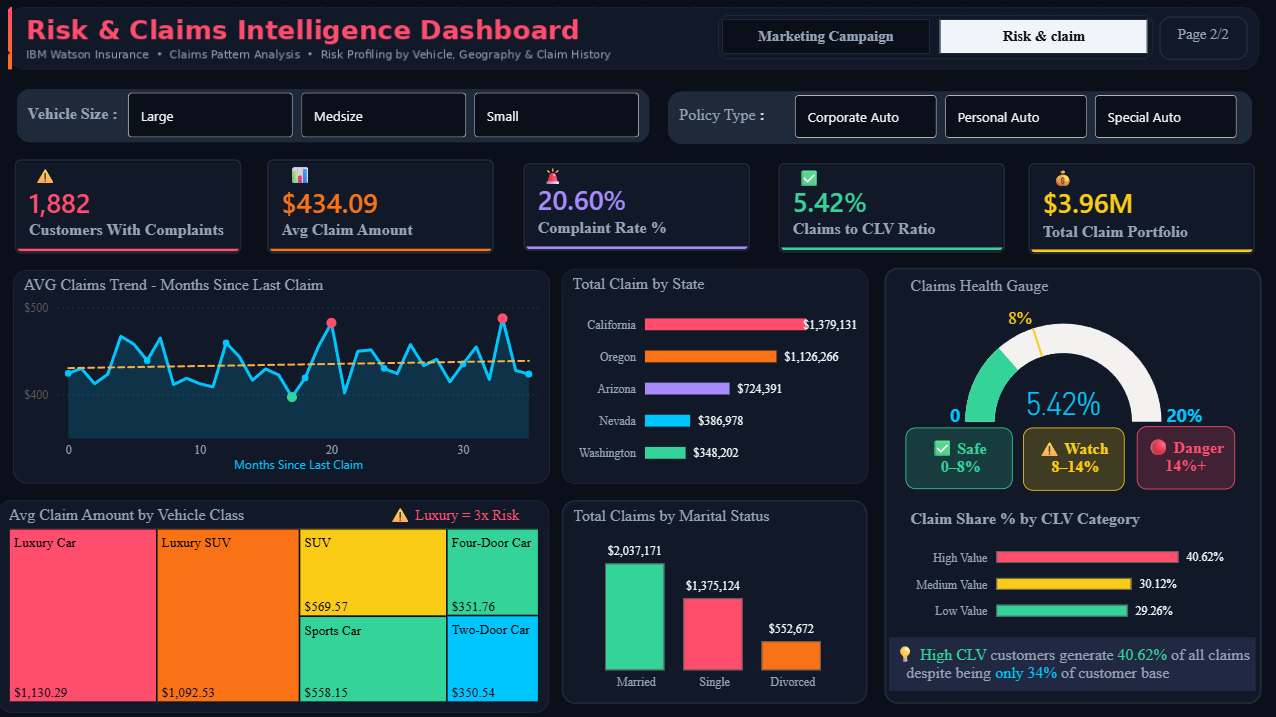

The dashboard page shown, as its layout file describes it:
{"tool":"powerbi","page":{"name":"Risk & claim","canvas":[1280,720],"ordinal":1},"visuals":[{"type":"shape","box":[18,89.1,632.9,53.8],"z":0,"group":"g6"},{"type":"shape","box":[670,91.1,584.3,52.9],"z":0,"group":"g4"},{"type":"group","id":"g1","title":"Group 2","box":[886.7,267.5,377.5,436.7],"z":0},{"type":"shape","box":[886.7,267.5,377.5,436.7],"z":0,"group":"g1"},{"type":"advancedSlicerVisual","fields":{"Values":["IBM_Marketing.Vehicle Size"]},"box":[124.7,93.4,522.9,45.7],"z":1000,"group":"g6"},{"type":"advancedSlicerVisual","fields":{"Values":["IBM_Marketing.Policy Type"]},"box":[788.6,95.4,458.3,47.1],"z":1000,"group":"g4"},{"type":"cardVisual","fields":{"Data":["Risk & Claim KPI.Avg Claim Amount"]},"box":[252.9,142.9,260,128.6],"z":1000},{"type":"cardVisual","fields":{"Data":["Risk & Claim KPI.Customers With Complaints"]},"box":[0,142.9,260,128.6],"z":2000},{"type":"textbox","box":[17.1,100.6,114.3,43.2],"z":3000,"group":"g6"},{"type":"textbox","box":[675.7,101.1,107.1,30],"z":3000,"group":"g4"},{"type":"cardVisual","fields":{"Data":["Risk & Claim KPI.Complaint Rate %"]},"box":[508.6,145.7,260,122.9],"z":3000},{"type":"cardVisual","fields":{"Data":["Risk & Claim KPI.Claims to CLV Ratio"]},"box":[763.8,146.2,260,123.8],"z":4000},{"type":"barChart","fields":{"Y":["Risk & Claim KPI.Claim Share %"],"Category":["IBM_Marketing.CLV Category"]},"box":[907.1,510,330,124.3],"z":5000},{"type":"clusteredBarChart","title":"Total Claim by State","fields":{"Category":["IBM_Marketing.State","IBM_Marketing.Gender"],"Y":["Risk & Claim KPI.Total Claim Portfolio"]},"box":[563.8,268.8,306.2,215],"z":6000},{"type":"treemap","fields":{"Group":["IBM_Marketing.Vehicle Class"],"Values":["Risk & Claim KPI.Avg Claim Amount"]},"box":[0,500,551.4,212.9],"z":7000},{"type":"gauge","title":"Claims Health Gauge","fields":{"Y":["Risk & Claim KPI.Claims to CLV Ratio"],"MinValue":["Table.Gauge min"],"MaxValue":["Table.gauge max"],"TargetValue":["Table.Gauge Target"]},"box":[907.1,275.7,341.4,155.7],"z":8000},{"type":"clusteredColumnChart","title":"Total Claims by Marital Status","fields":{"Category":["IBM_Marketing.Marital Status"],"Y":["Risk & Claim KPI.Total Claim Portfolio"]},"box":[564.3,500,305.7,204.3],"z":9000},{"type":"lineChart","title":"AVG Claims Trend - Months Since Last Claim","fields":{"Category":["IBM_Marketing.Months Since Last Claim"],"Y":["Risk & Claim KPI.Avg Claim Amount"]},"box":[14.4,270,536.7,213.3],"z":10000},{"type":"textbox","box":[386.2,497.5,165,35],"z":11000},{"type":"group","id":"g2","title":"Group 1","box":[907.1,426.7,330,64.3],"z":12000},{"type":"textbox","box":[891.2,637.5,366.2,53.8],"z":13000},{"type":"cardVisual","fields":{"Data":["Risk & Claim KPI.Total Claim Portfolio"]},"box":[1014.3,145.7,260,125.7],"z":14000},{"type":"textbox","box":[907.1,428.1,107.1,61.4],"z":14000,"group":"g2"},{"type":"group","id":"g3","title":"Group 3","box":[17.1,89.1,633.8,54.7],"z":15000},{"type":"textbox","box":[1024.2,428.1,101.4,62.9],"z":15000,"group":"g2"},{"type":"group","id":"g4","title":"Group 4","box":[670,91.1,584.3,52.9],"z":16000},{"type":"textbox","box":[1138.5,426.7,98.6,62.9],"z":16000,"group":"g2"},{"type":"textbox","box":[31.2,158.8,47.5,40],"z":17000},{"type":"textbox","box":[286.2,158.8,47.5,45],"z":18000},{"type":"group","id":"g5","title":"Group 4","box":[17.1,89.1,633.8,54.7],"z":18001,"group":"g3"},{"type":"textbox","box":[538.8,160,41.2,38.8],"z":19000},{"type":"textbox","box":[795,161.2,47.5,42.5],"z":20000},{"type":"textbox","box":[1049.2,160.8,47.5,42.5],"z":21000},{"type":"image","box":[10,6.2,1251.2,63.8],"z":22000},{"type":"pageNavigator","box":[720,15,435,43.8],"z":23000},{"type":"textbox","box":[1161.2,16.2,88.8,43.8],"z":24000},{"type":"group","id":"g6","title":"Group 5","box":[17.1,89.1,633.8,54.7],"z":24001,"group":"g5"}]}

Visuals, with their boxes in screenshot pixels (x1, y1, x2, y2), scaled from the page's 1280x720 canvas onto the 1276x717 screenshot:
shape: 18, 89, 649, 142
shape: 668, 91, 1250, 143
"Group 2" group: 884, 266, 1260, 701
shape: 884, 266, 1260, 701
advancedSlicerVisual - IBM_Marketing.Vehicle Size: 124, 93, 646, 139
advancedSlicerVisual - IBM_Marketing.Policy Type: 786, 95, 1243, 142
cardVisual - Risk & Claim KPI.Avg Claim Amount: 252, 142, 511, 270
cardVisual - Risk & Claim KPI.Customers With Complaints: 0, 142, 259, 270
textbox: 17, 100, 131, 143
textbox: 674, 101, 780, 131
cardVisual - Risk & Claim KPI.Complaint Rate %: 507, 145, 766, 267
cardVisual - Risk & Claim KPI.Claims to CLV Ratio: 761, 146, 1021, 269
barChart - Risk & Claim KPI.Claim Share % x IBM_Marketing.CLV Category: 904, 508, 1233, 632
"Total Claim by State" clusteredBarChart: 562, 268, 867, 482
treemap - IBM_Marketing.Vehicle Class x Risk & Claim KPI.Avg Claim Amount: 0, 498, 550, 710
"Claims Health Gauge" gauge: 904, 275, 1245, 430
"Total Claims by Marital Status" clusteredColumnChart: 563, 498, 867, 701
"AVG Claims Trend - Months Since Last Claim" lineChart: 14, 269, 549, 481
textbox: 385, 495, 549, 530
"Group 1" group: 904, 425, 1233, 489
textbox: 888, 635, 1253, 688
cardVisual - Risk & Claim KPI.Total Claim Portfolio: 1011, 145, 1270, 270
textbox: 904, 426, 1011, 487
"Group 3" group: 17, 89, 649, 143
textbox: 1021, 426, 1122, 489
"Group 4" group: 668, 91, 1250, 143
textbox: 1135, 425, 1233, 488
textbox: 31, 158, 78, 198
textbox: 285, 158, 333, 203
"Group 4" group: 17, 89, 649, 143
textbox: 537, 159, 578, 198
textbox: 793, 161, 840, 203
textbox: 1046, 160, 1093, 202
image: 10, 6, 1257, 70
pageNavigator: 718, 15, 1151, 59
textbox: 1158, 16, 1246, 60
"Group 5" group: 17, 89, 649, 143
